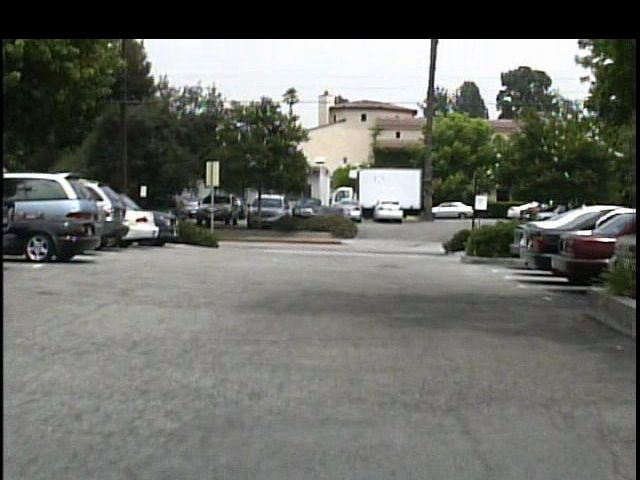person: (173, 195, 194, 238)
